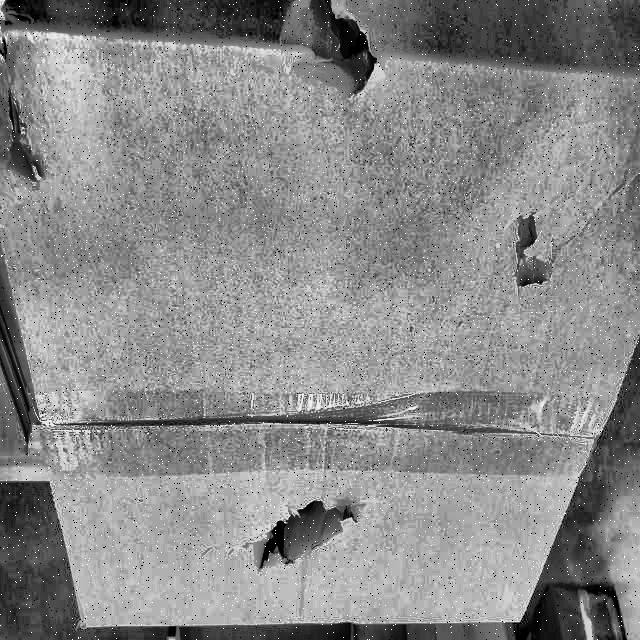box: (0, 1, 639, 633)
hole: (287, 1, 380, 105), (256, 499, 360, 577), (503, 208, 568, 294)
